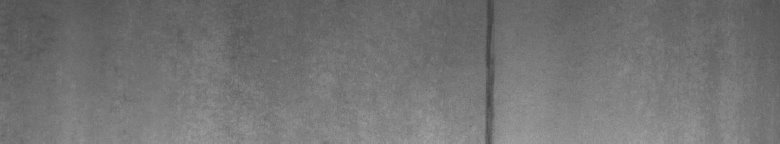hd: (480, 4, 500, 136)
